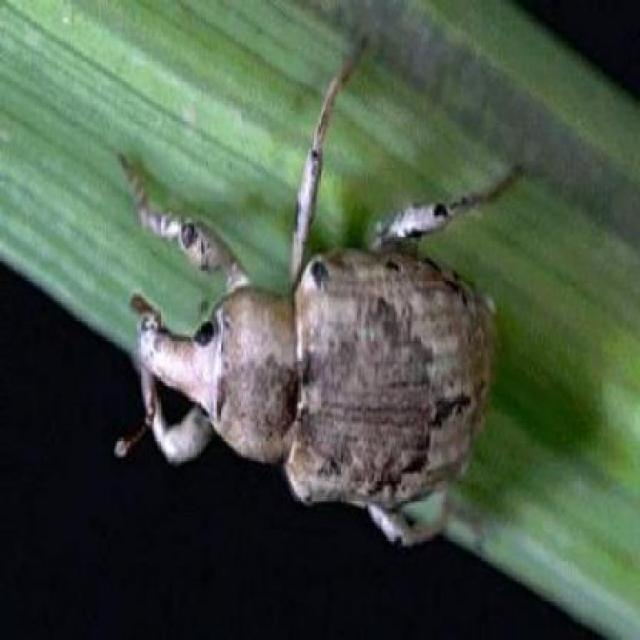rice-bug: (135, 194, 516, 514)
